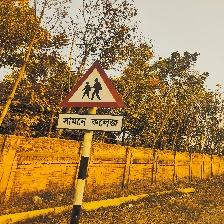College-in-front: (50, 44, 138, 146)
